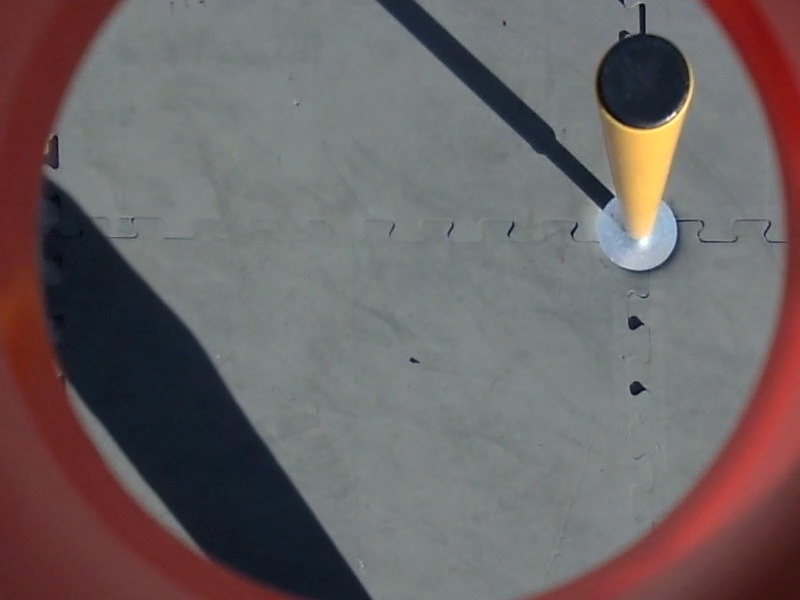tip: (586, 30, 699, 139)
